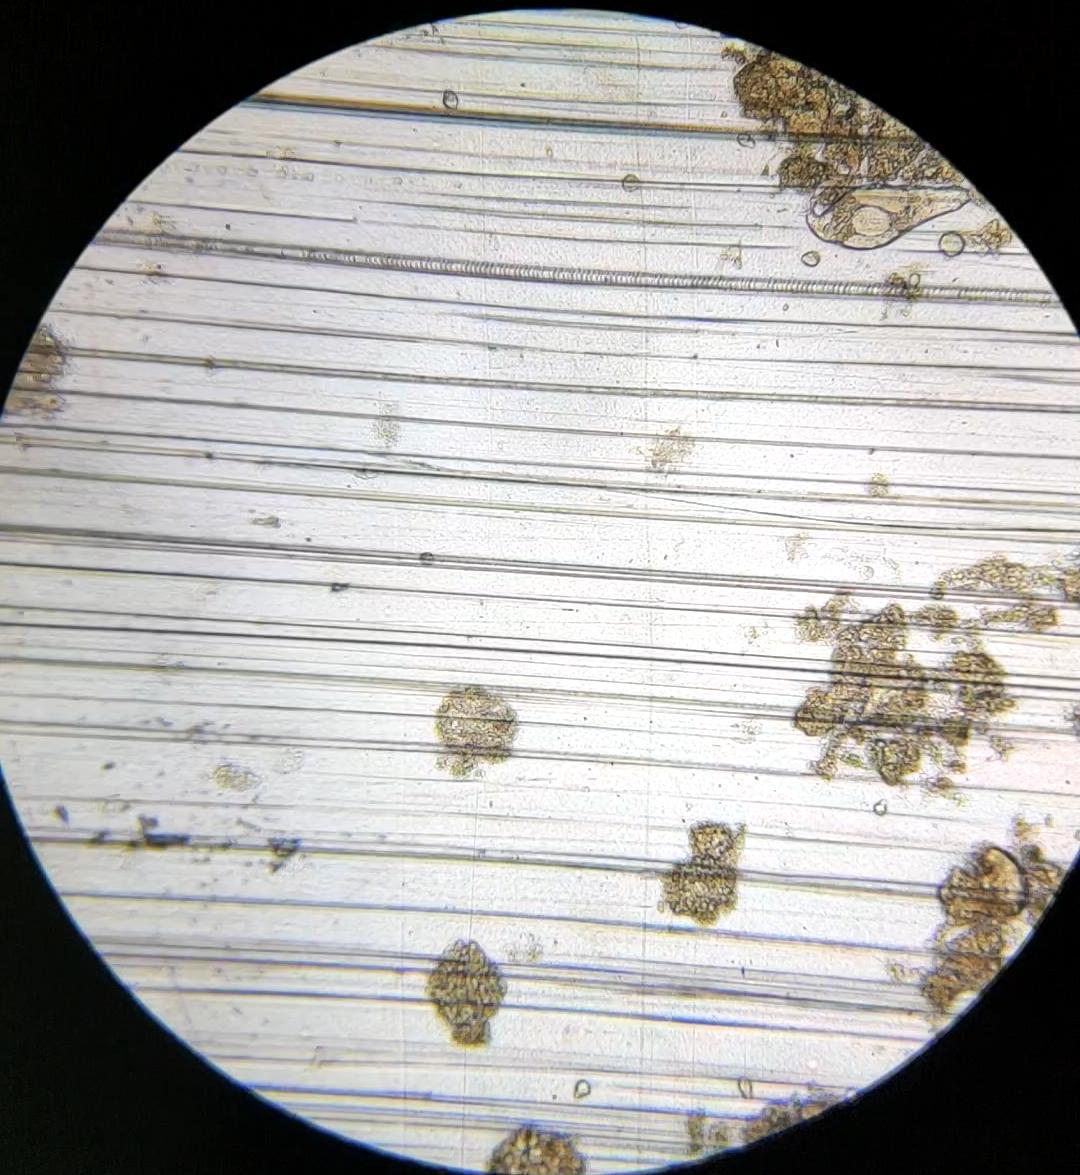Do: (798, 185, 973, 250)
